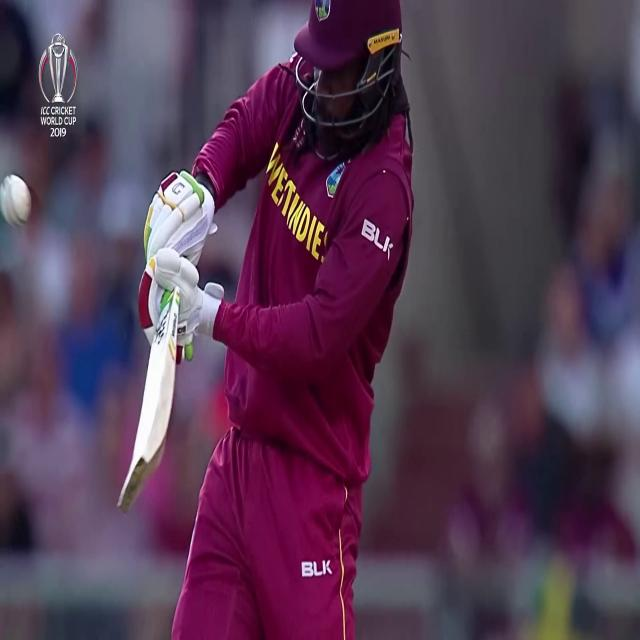ball: (1, 165, 36, 244)
